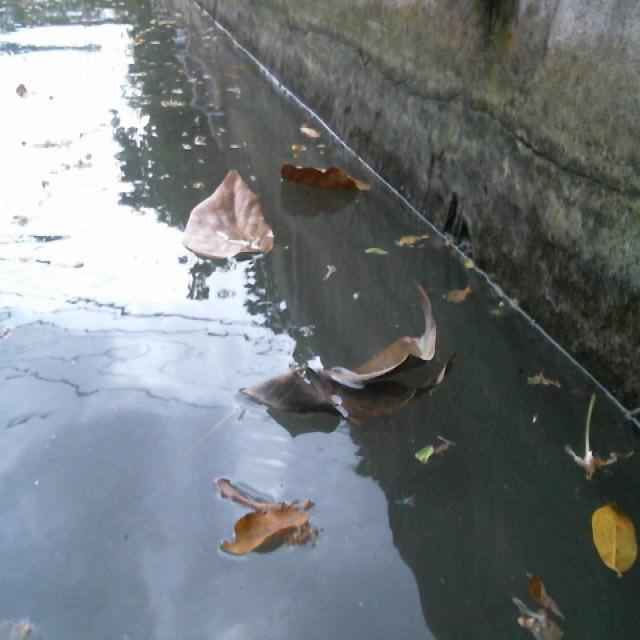Big-leaf: (240, 292, 448, 437), (207, 470, 349, 572), (174, 168, 275, 284), (283, 147, 375, 211)
Small-leaf: (497, 551, 572, 640), (586, 487, 640, 584), (437, 274, 483, 323), (392, 228, 449, 267), (532, 369, 578, 406), (490, 293, 521, 322), (301, 118, 328, 145), (361, 238, 386, 262)
